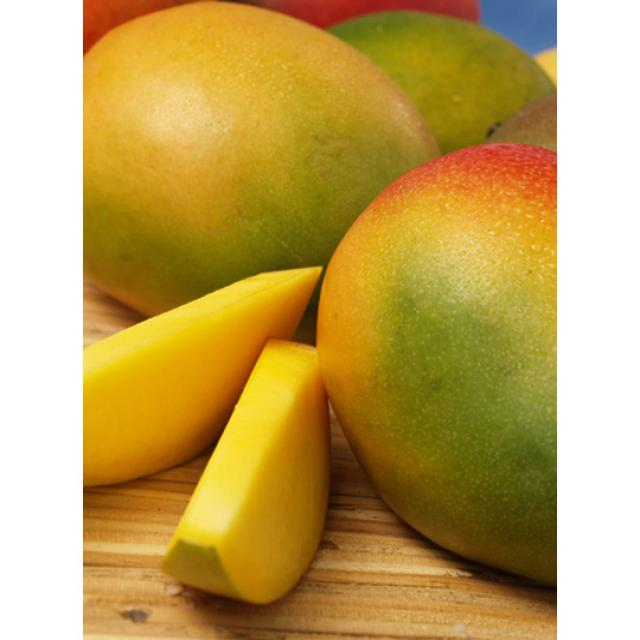mango: (78, 0, 423, 314), (318, 147, 556, 589)
